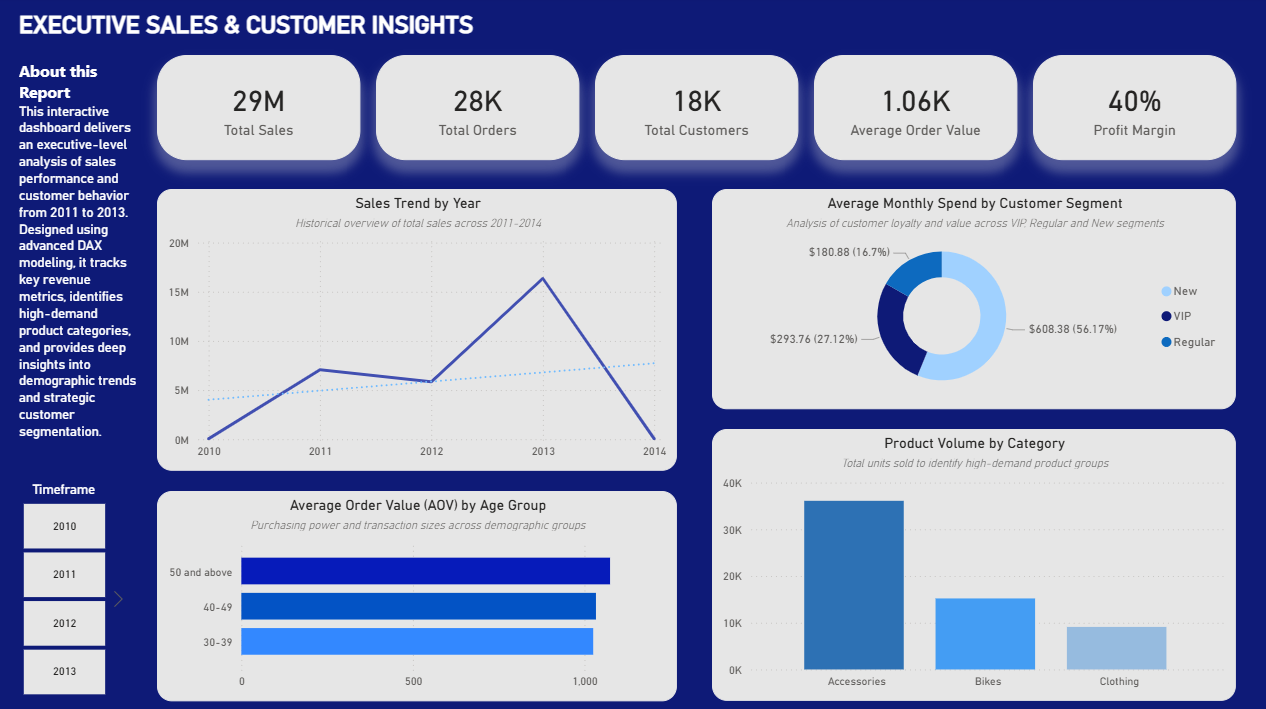

Layout of this report page (visuals, bound fields, positions):
{"tool":"powerbi","page":{"name":"Dashboard","canvas":[1280,720],"ordinal":0},"visuals":[{"type":"lineChart","title":"Sales Trend by Year","fields":{"Category":["fact_sales.order_date.Variation.Date Hierarchy.Year"],"Y":["fact_sales.total_sales"]},"box":[160.3,193.5,524.1,284.2],"z":0},{"type":"clusteredColumnChart","title":"Product Volume by Category","fields":{"Category":["dim_products.category"],"Y":["fact_sales.Total Quantity"]},"box":[719.8,434.9,527.5,274.3],"z":1000},{"type":"card","fields":{"Values":["fact_sales.average_order_value"]},"box":[822.4,58.5,204.6,105.8],"z":2000},{"type":"donutChart","title":"Average Monthly Spend by Customer Segment","fields":{"Category":["dim_customers.customer_segment"],"Y":["dim_customers.average_monthly_spend"]},"box":[719.6,193.5,528.1,221.7],"z":3000},{"type":"clusteredBarChart","title":"Average Order Value (AOV) by Age Group","fields":{"Category":["dim_customers.age_group"],"Y":["fact_sales.Average Order Value"]},"box":[160.6,497.5,524,211.7],"z":4000},{"type":"slicer","title":"Timeframe","fields":{"Values":["fact_sales.year"]},"box":[0,488.7,132.3,220.5],"z":5000},{"type":"textbox","box":[16.1,9.1,529.1,49.4],"z":6000},{"type":"card","fields":{"Values":["fact_sales.total_sales"]},"box":[160.3,58.5,204.6,105.8],"z":7000},{"type":"card","fields":{"Values":["fact_sales.total_orders"]},"box":[381,58.5,204.6,105.8],"z":8000},{"type":"card","fields":{"Values":["fact_sales.total_customers"]},"box":[601.7,58.5,204.6,105.8],"z":9000},{"type":"card","fields":{"Values":["fact_sales.Profit Margin"]},"box":[1043.1,58.5,204.6,105.8],"z":10000},{"type":"textbox","box":[15.9,58.2,132.3,412.8],"z":11000}]}

Visuals, with their boxes in screenshot pixels (x1, y1, x2, y2), scaled from the page's 1280x720 canvas onto the 1266x709 screenshot:
"Sales Trend by Year" lineChart: [left=159, top=191, right=677, bottom=470]
"Product Volume by Category" clusteredColumnChart: [left=712, top=428, right=1234, bottom=698]
card - fact_sales.average_order_value: [left=813, top=58, right=1016, bottom=162]
"Average Monthly Spend by Customer Segment" donutChart: [left=712, top=191, right=1234, bottom=409]
"Average Order Value (AOV) by Age Group" clusteredBarChart: [left=159, top=490, right=677, bottom=698]
"Timeframe" slicer: [left=0, top=481, right=131, bottom=698]
textbox: [left=16, top=9, right=539, bottom=58]
card - fact_sales.total_sales: [left=159, top=58, right=361, bottom=162]
card - fact_sales.total_orders: [left=377, top=58, right=579, bottom=162]
card - fact_sales.total_customers: [left=595, top=58, right=797, bottom=162]
card - fact_sales.Profit Margin: [left=1032, top=58, right=1234, bottom=162]
textbox: [left=16, top=57, right=147, bottom=464]
